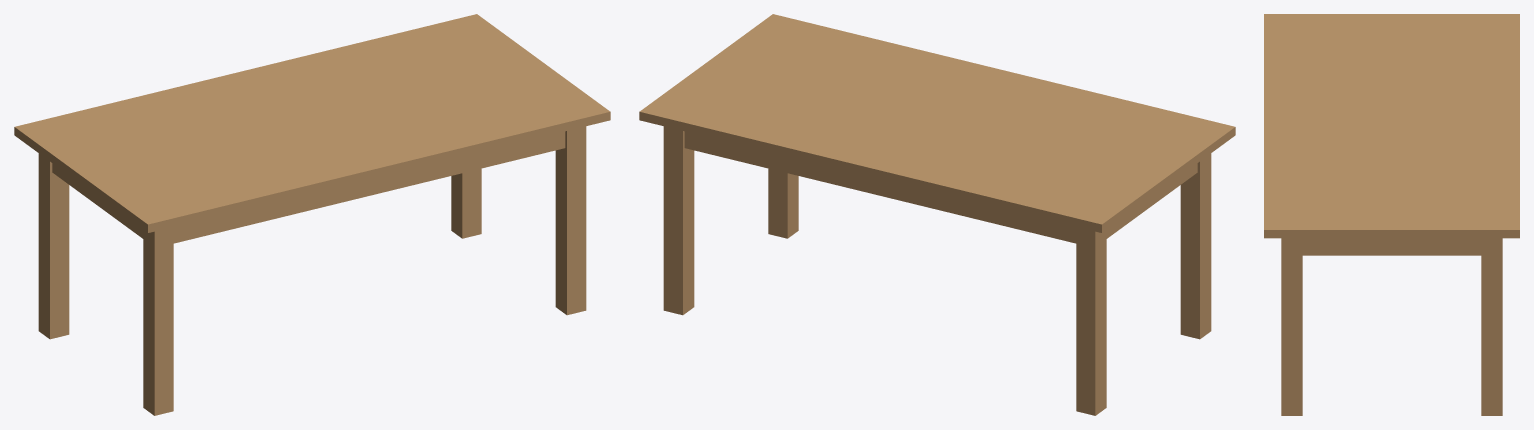
Rendered from 016_six_seat_dining_table.glb.
3 views of the same model, side by side, from view 1: azimuth 30°, elevation 25°; view 2: azimuth 150°, elevation 25°; view 3: azimuth 270°, elevation 25° (orthographic). The views are drawn at different scales.
Visible parts, largest first — view 1: 016_table_top, 009_table_apron_front, 003_table_leg, 002_table_leg, 000_table_leg, 001_table_leg, 010_table_apron_l; view 2: 016_table_top, 008_table_apron_back, 001_table_leg, 000_table_leg, 002_table_leg, 003_table_leg, 010_table_apron_l; view 3: 016_table_top, 001_table_leg, 003_table_leg, 011_table_apron_r.
Part boxes in pixels (x1,y1,x2,y2): 016_table_top: (14, 14, 610, 232); 009_table_apron_front: (173, 131, 565, 243); 003_table_leg: (555, 126, 586, 315); 002_table_leg: (143, 227, 173, 415); 000_table_leg: (38, 153, 69, 339); 001_table_leg: (451, 168, 481, 238); 010_table_apron_l: (52, 163, 143, 238); 016_table_top: (639, 14, 1235, 232); 008_table_apron_back: (684, 131, 1076, 243); 001_table_leg: (663, 126, 694, 315); 000_table_leg: (1076, 227, 1106, 415); 002_table_leg: (1180, 153, 1211, 339); 003_table_leg: (768, 168, 798, 238); 010_table_apron_l: (1106, 163, 1197, 238); 016_table_top: (1264, 14, 1519, 238); 001_table_leg: (1481, 238, 1502, 415); 003_table_leg: (1281, 238, 1302, 415); 011_table_apron_r: (1302, 238, 1481, 255).
Size of the model in its own units: 1.8 by 0.75 by 0.9.
